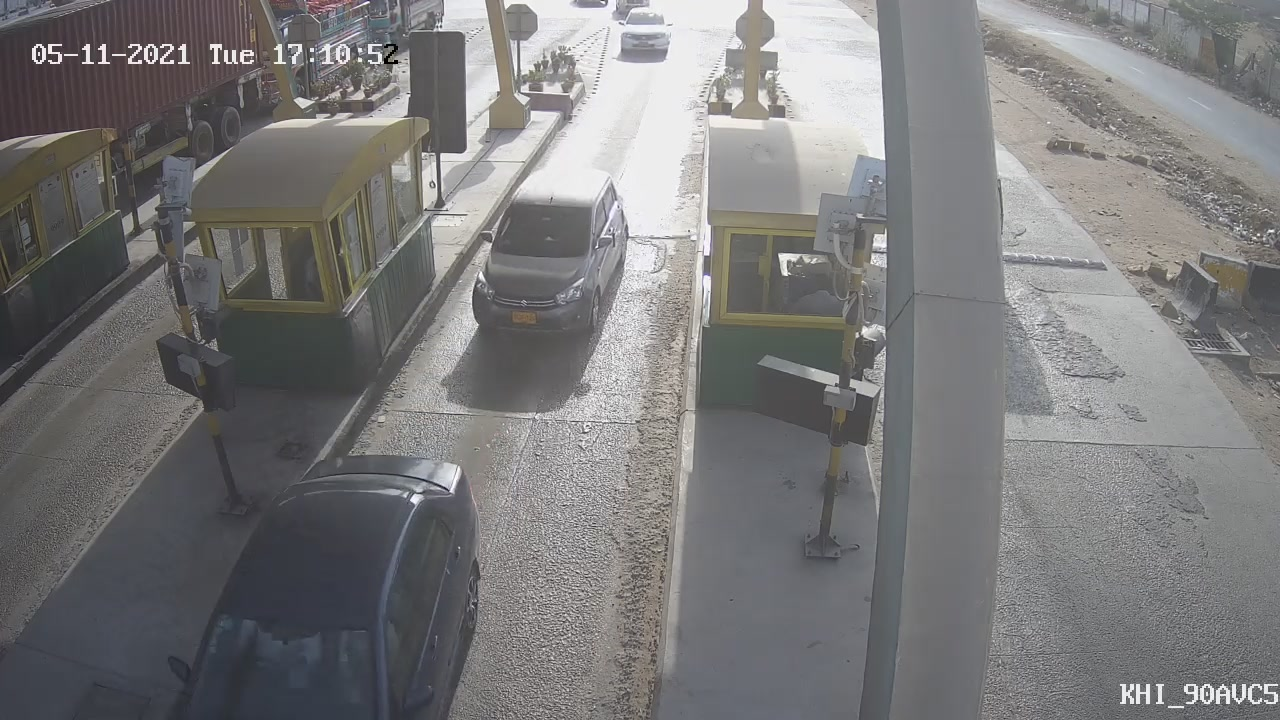F1: (451, 148, 648, 351)
